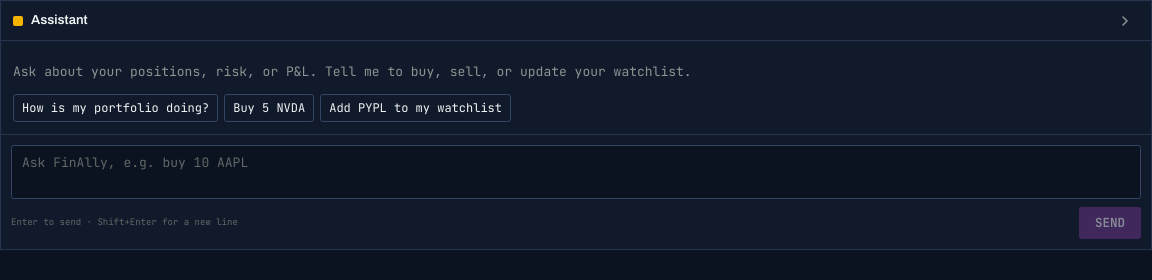
Scenario: ChatPanel › shows the server's error inline when the LLM is unavailable
Type "How am I doing?" into the text box with test id "chat-input" at (576, 172), box 11,145 -> 1141,199
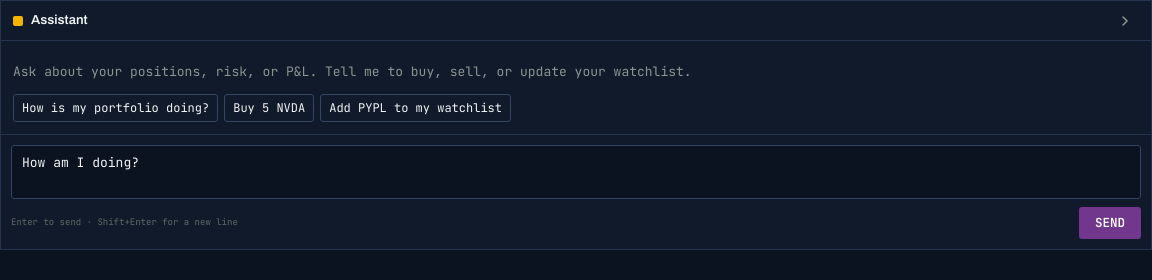
Click the button with test id "chat-send-button" at (1110, 223), box 1079,207 -> 1141,239
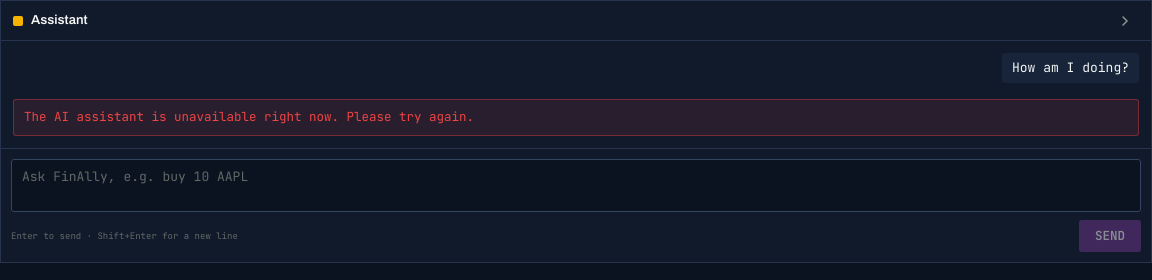
Expected: the message with test id "chat-error" shows "The AI assistant is unavailable right now.", 24,108 -> 474,125
